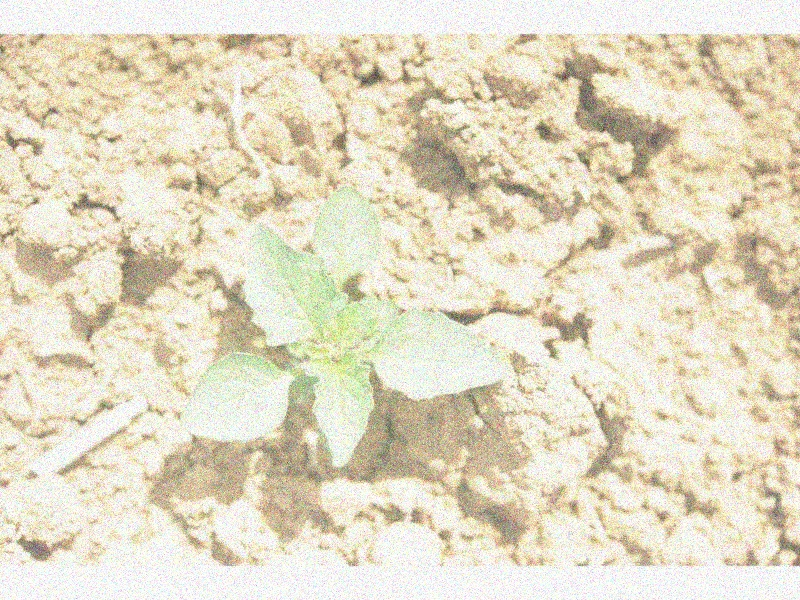nightshade: (182, 187, 510, 469)
